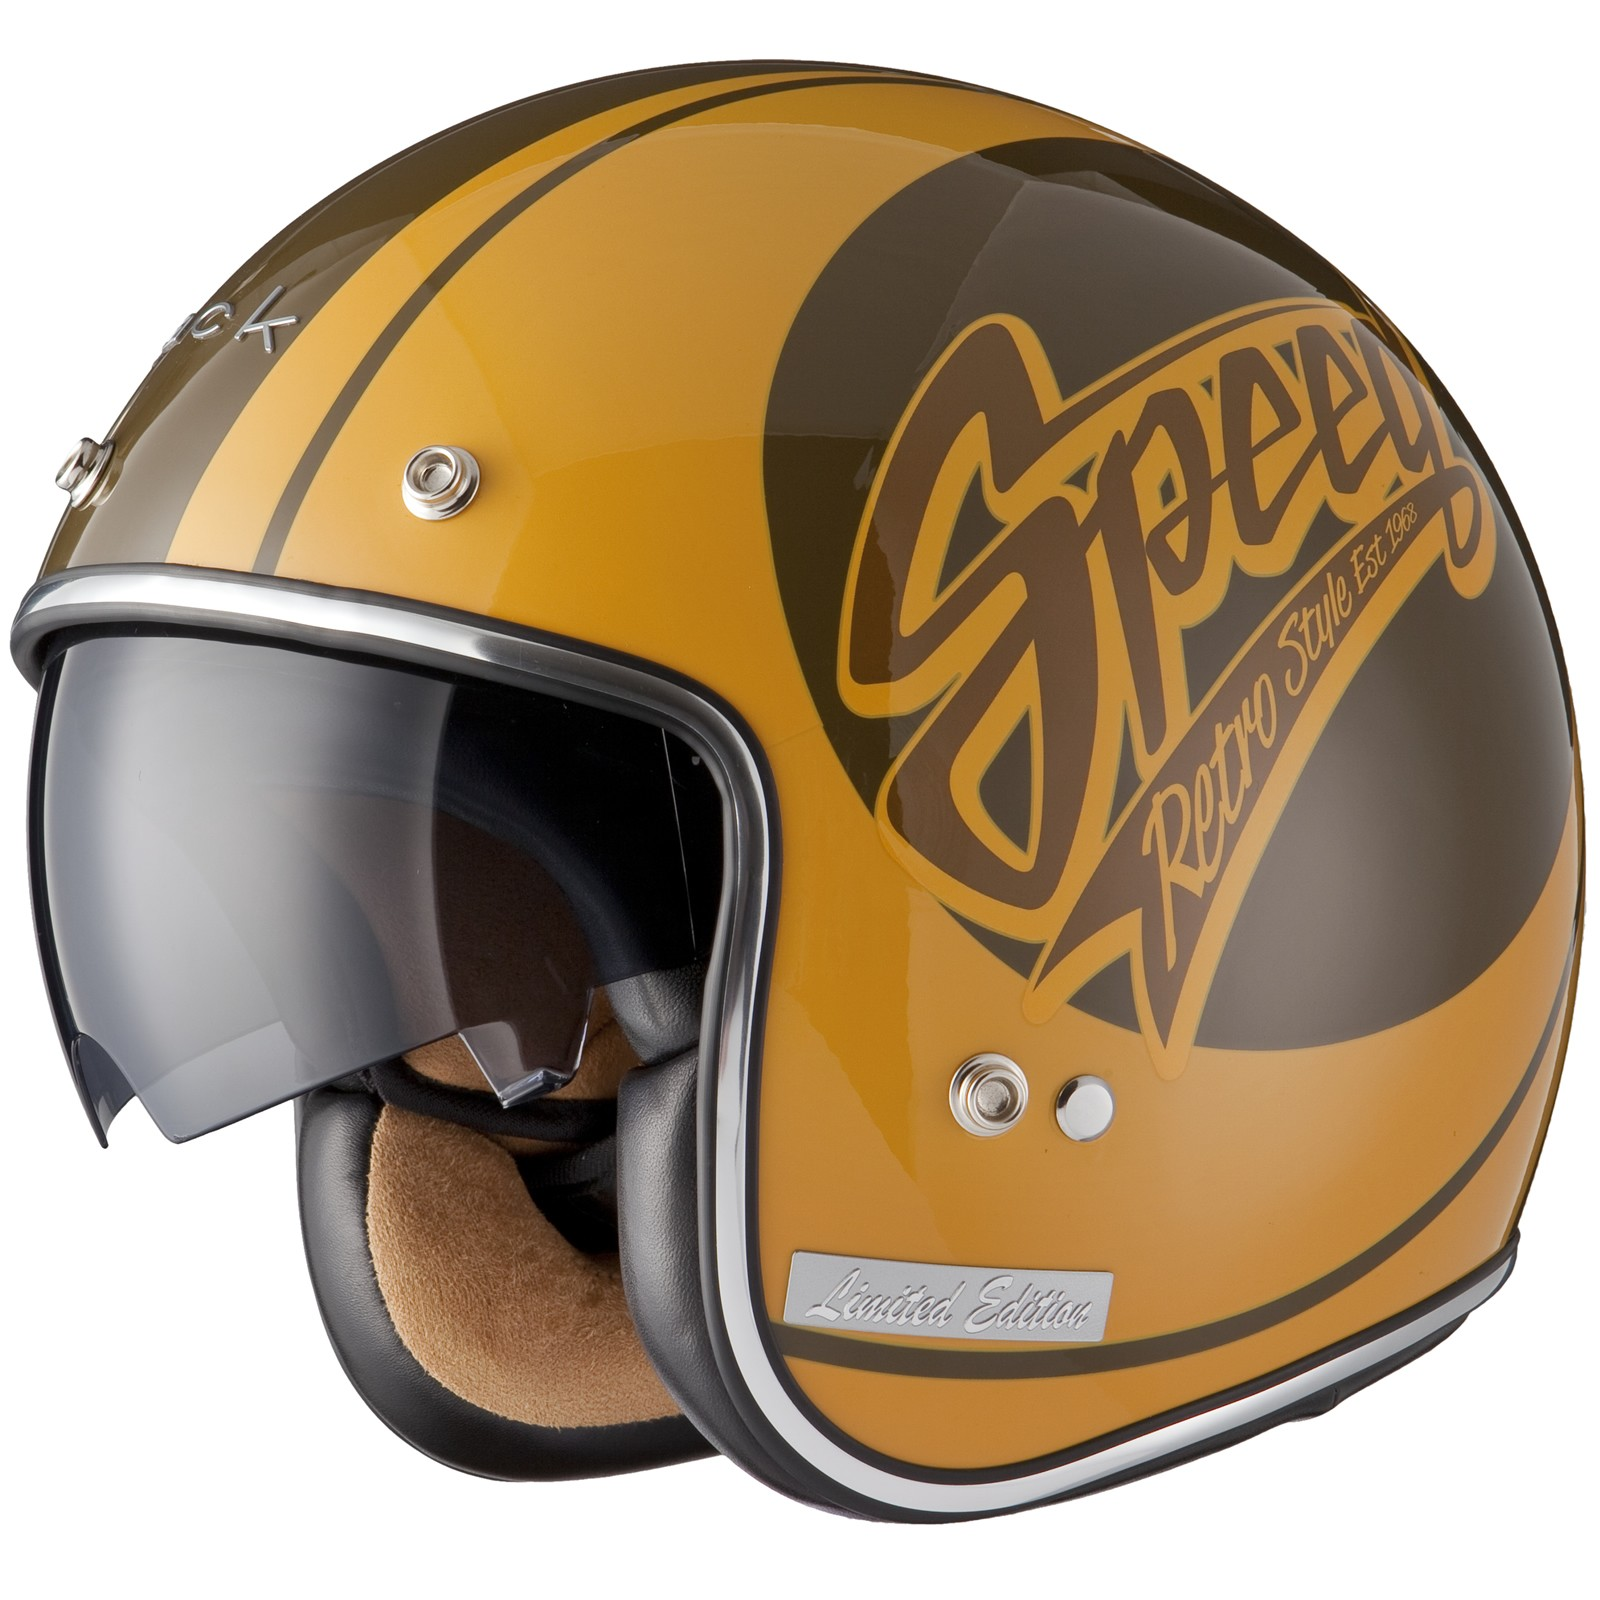with_helmet: (22, 59, 1588, 1528)
